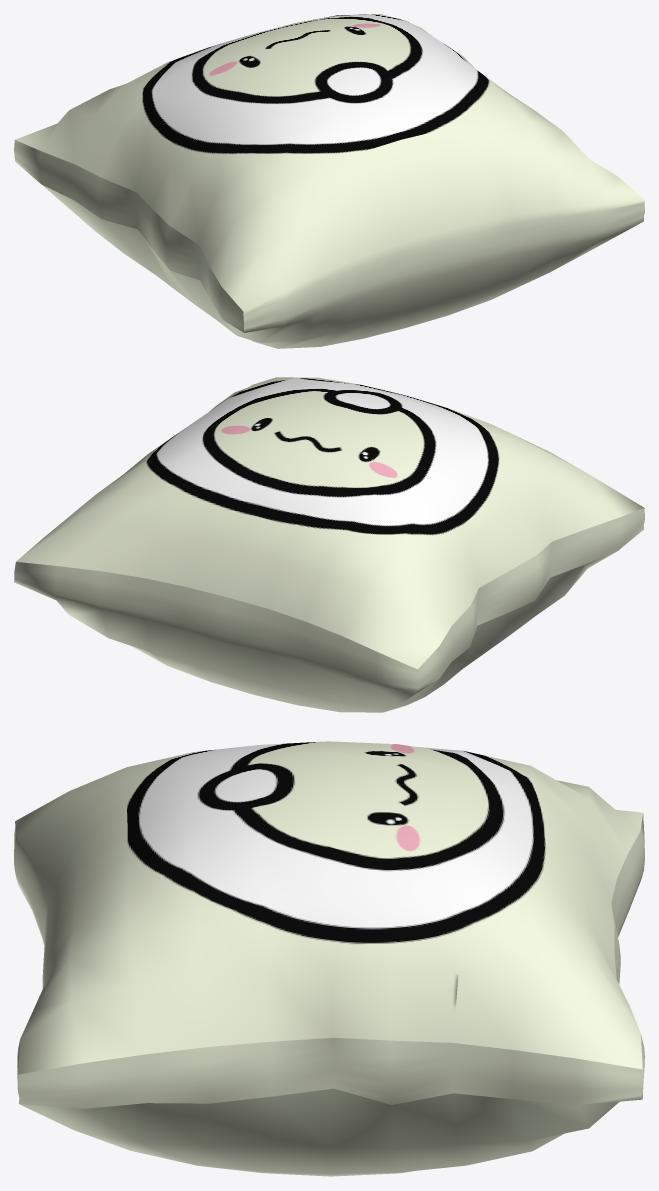
Rendered from cusion.glb.
The picture shows the model from 3 angles, top to bottom: view 1: azimuth 30°, elevation 25°; view 2: azimuth 150°, elevation 25°; view 3: azimuth 270°, elevation 25°; orthographic projection. The views are drawn at different scales.
Parts seen in each view (by area): view 1: pillow_pupple; view 2: pillow_pupple; view 3: pillow_pupple.
Part boxes in pixels (bbox=[...]): pillow_pupple: bbox=[14, 14, 644, 348]; pillow_pupple: bbox=[14, 377, 644, 712]; pillow_pupple: bbox=[14, 741, 644, 1176].
Size of the model in its own units: 2.55 by 1.56 by 2.5.
1 material, 1 textured.
